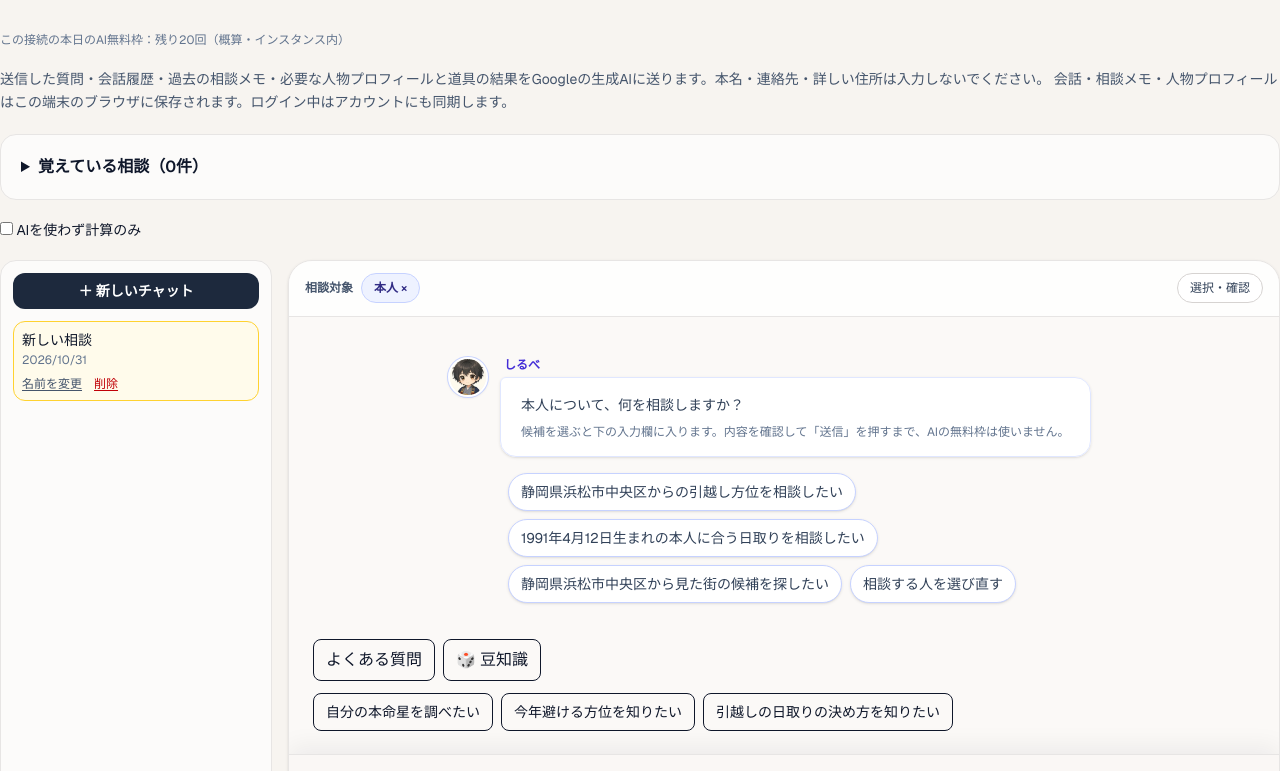
保存済みプロフィールと同行者を重複なく候補にし、実データから初回質問を作る
Expected: the button with aria-label "本人を相談対象から外す" shows "本人", [361,273,420,303]
Step 1. Click the button "選択・確認" → (1220, 288), box [1177,273,1263,303]
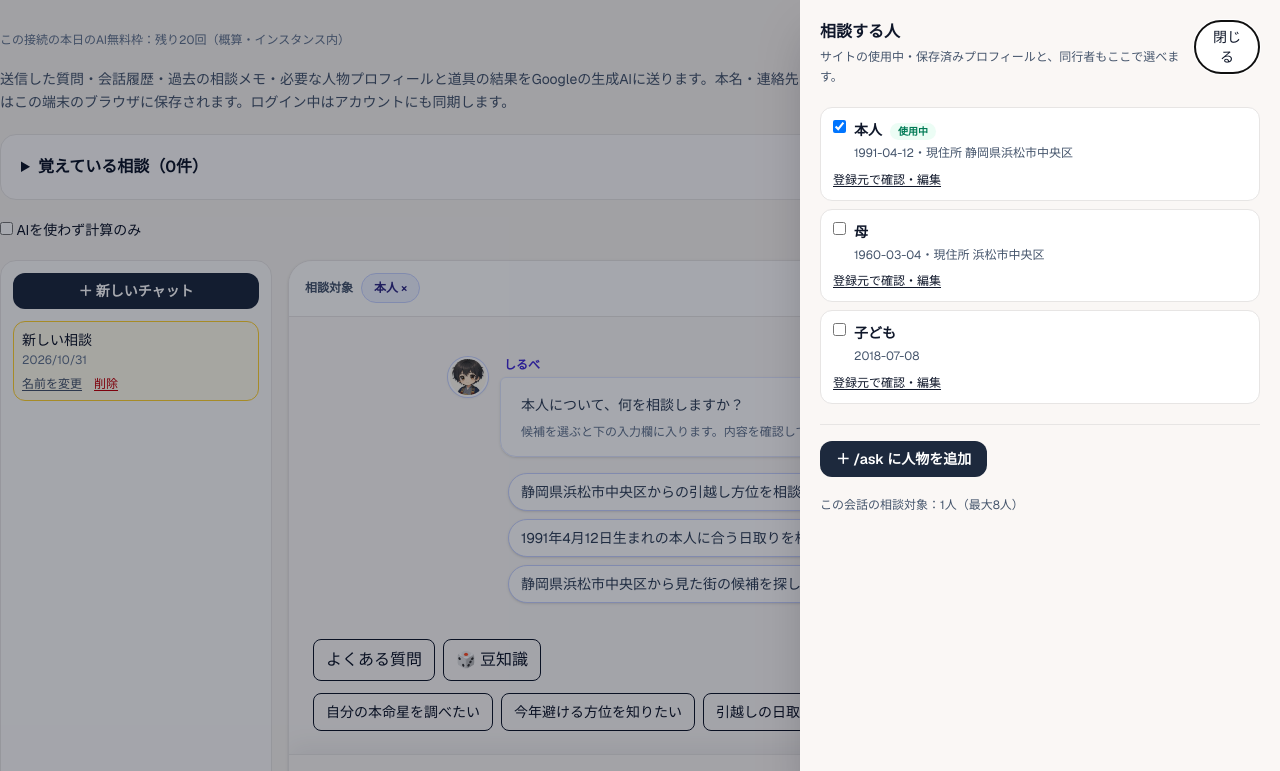
Result: the number of checkboxes named "母を相談対象にする" is 1 at [833,222,846,234]
Step 2. Click the button with aria-label "相談する人の画面を閉じる" → (1227, 47), box [1194,20,1260,74]
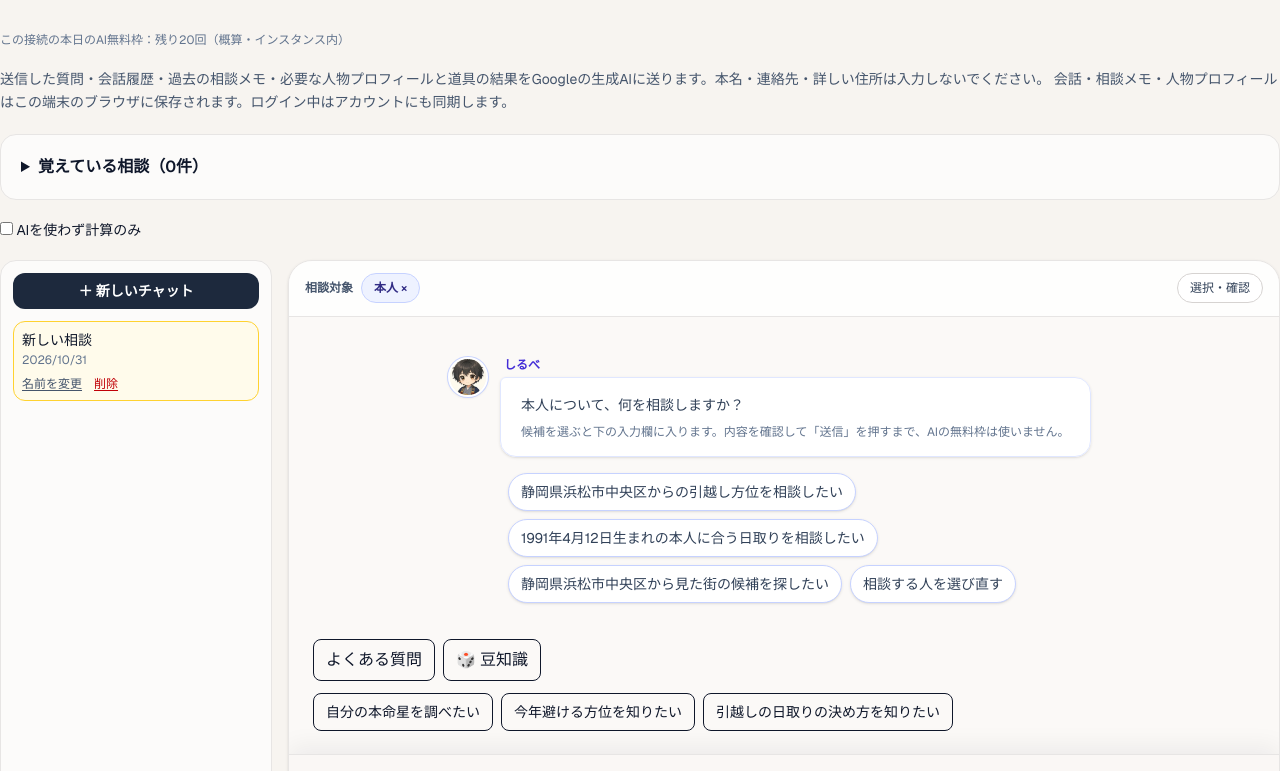
Step 3. Click the button "1991年4月12日生まれの本人に合う日取りを相談したい" → (693, 538), box [508,519,878,557]
(page scrolled)
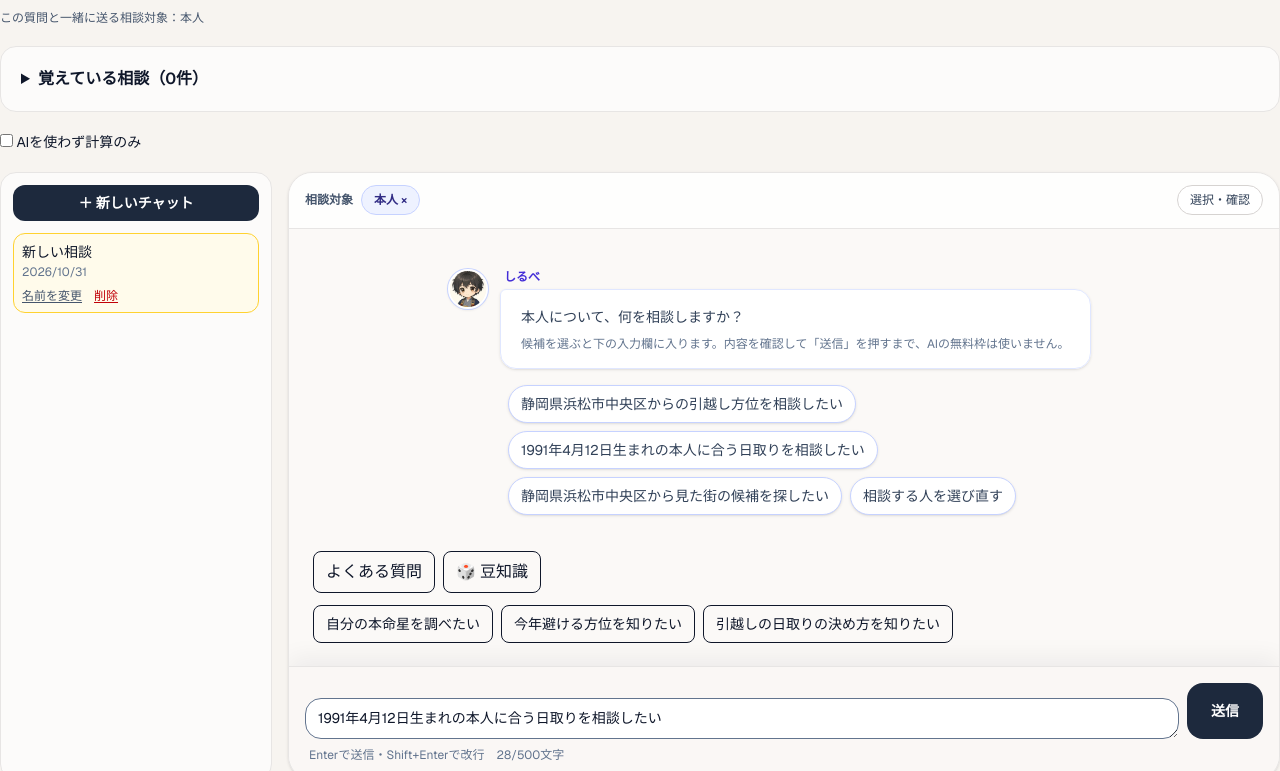
Result: the text box named "メッセージ" holds "1991年4月12日生まれの本人に合う日取りを相談したい" at [305,698,1179,739]
